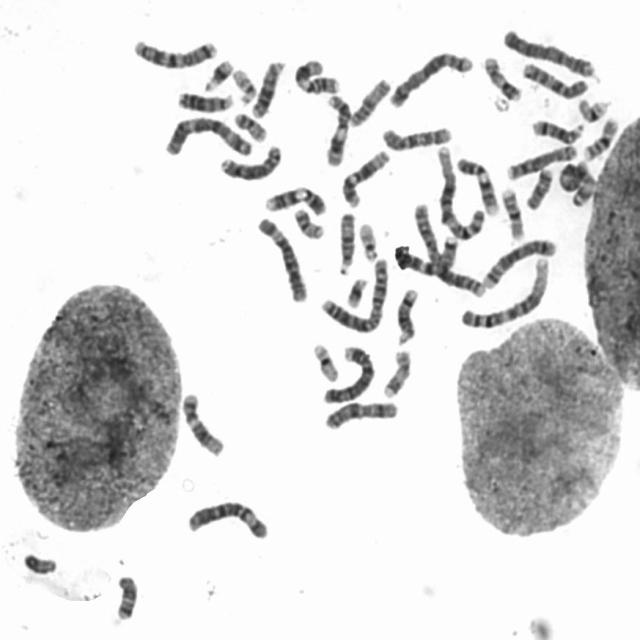A1: (456, 252, 552, 331), (431, 139, 487, 241)
A2: (408, 199, 487, 299), (316, 252, 391, 334)
A3: (159, 110, 256, 159), (553, 154, 597, 209)
B4: (498, 22, 598, 79), (318, 340, 377, 405)
B5: (384, 44, 475, 109), (476, 232, 558, 291)
C10: (518, 56, 592, 101), (378, 120, 453, 152)
C11: (320, 89, 352, 167), (289, 53, 342, 96)
C12: (336, 143, 392, 209), (177, 386, 226, 459)
C6: (253, 211, 310, 304), (183, 494, 271, 541)
C7: (128, 32, 219, 70), (391, 231, 460, 277)
C8: (501, 138, 580, 182), (215, 139, 284, 182)
C9: (452, 151, 501, 217), (260, 180, 328, 218)
D13: (246, 54, 287, 119), (172, 85, 235, 114)
D14: (391, 282, 420, 347), (526, 114, 586, 144)
D15: (345, 72, 392, 128), (333, 206, 357, 277)
E16: (578, 111, 621, 161), (496, 182, 527, 241)
E17: (478, 51, 522, 102), (378, 344, 414, 400)
E18: (521, 162, 555, 210), (110, 568, 139, 622)
F19: (308, 337, 341, 383), (573, 92, 611, 123)
F20: (230, 106, 269, 143), (289, 202, 325, 240)
G21: (200, 53, 236, 92), (342, 272, 369, 308)
G22: (228, 62, 258, 105), (353, 217, 380, 262)
X: (320, 394, 401, 432)
Y: (18, 547, 59, 576)
